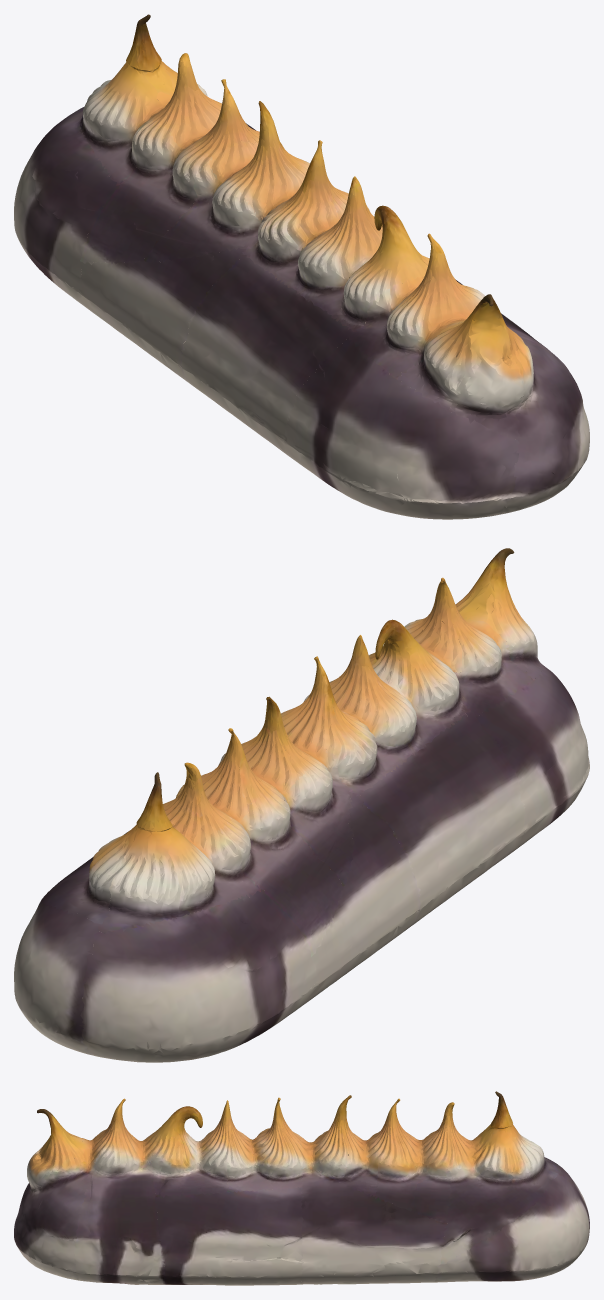
File: 06_6_yellowdot_eclair4_sculpture-opt-v32.glb
3 renders of one model, top to bottom at view 1: azimuth 30°, elevation 25°; view 2: azimuth 150°, elevation 25°; view 3: azimuth 270°, elevation 25°, orthographic. The views are drawn at different scales.
Parts seen in each view (by area): view 1: exlair4.001; view 2: exlair4.001; view 3: exlair4.001.
Part boxes in pixels (bbox=[...]): exlair4.001: bbox=[14, 14, 589, 519]; exlair4.001: bbox=[14, 548, 589, 1062]; exlair4.001: bbox=[14, 1091, 589, 1285].
Size of the model in its own units: 0.0406 by 0.0382 by 0.125.
1 material, 1 textured.
